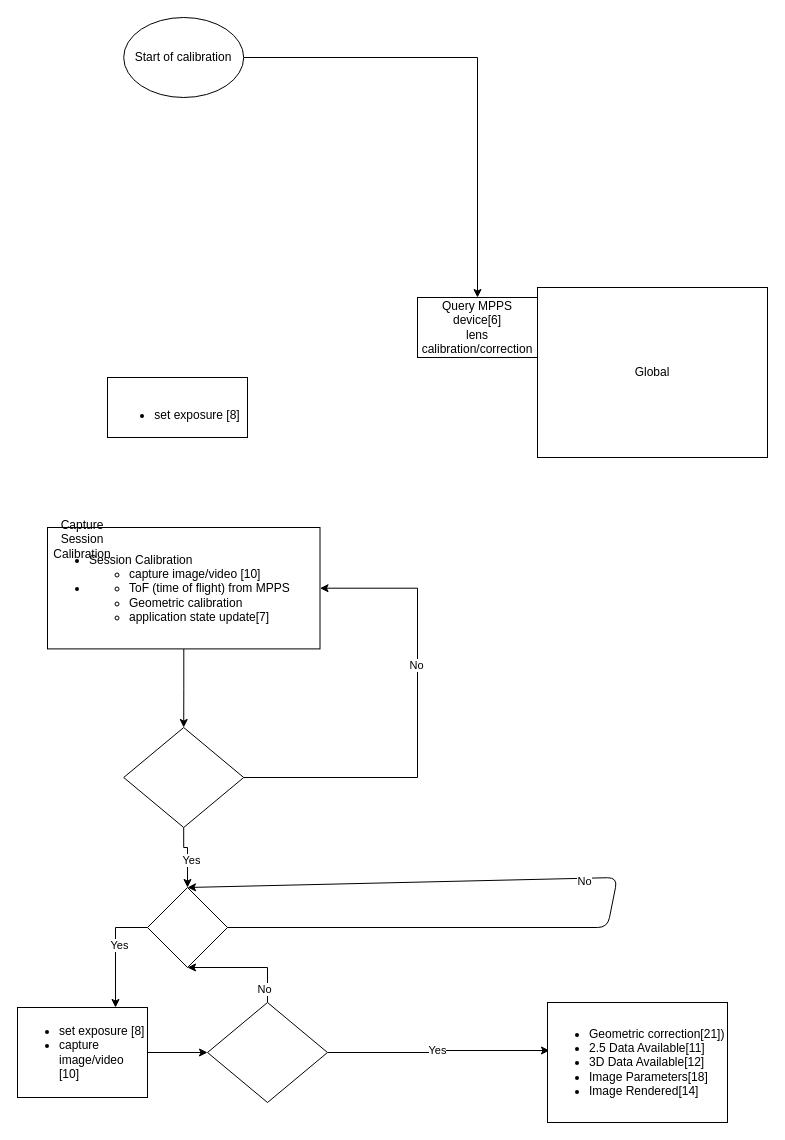
Some shapes in this 785 by 1140 pixel diagram are drawn without their labels. Each missing label, with the box of its shape:
Image capture Successful?: (206, 1002, 328, 1102)
PS Sequence[19] Capacitor Charged: (146, 886, 228, 968)
Session Calibration Successful?: (123, 726, 244, 828)
